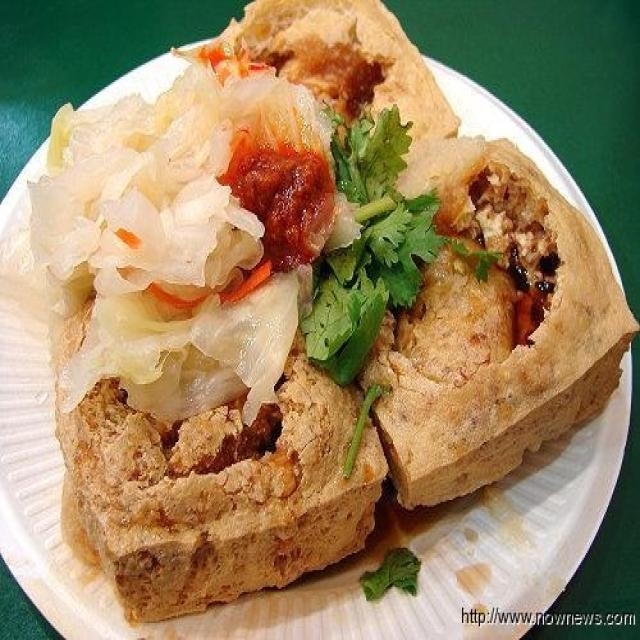豆腐料理: (8, 5, 627, 623)
